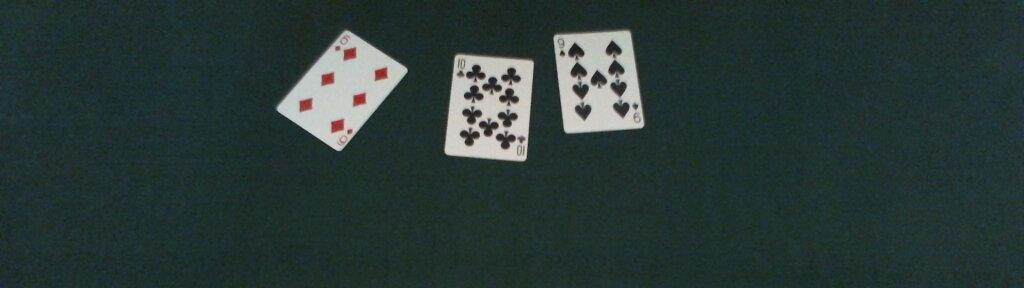nine: (554, 28, 644, 133)
six: (275, 30, 409, 151)
ten: (441, 53, 536, 161)
